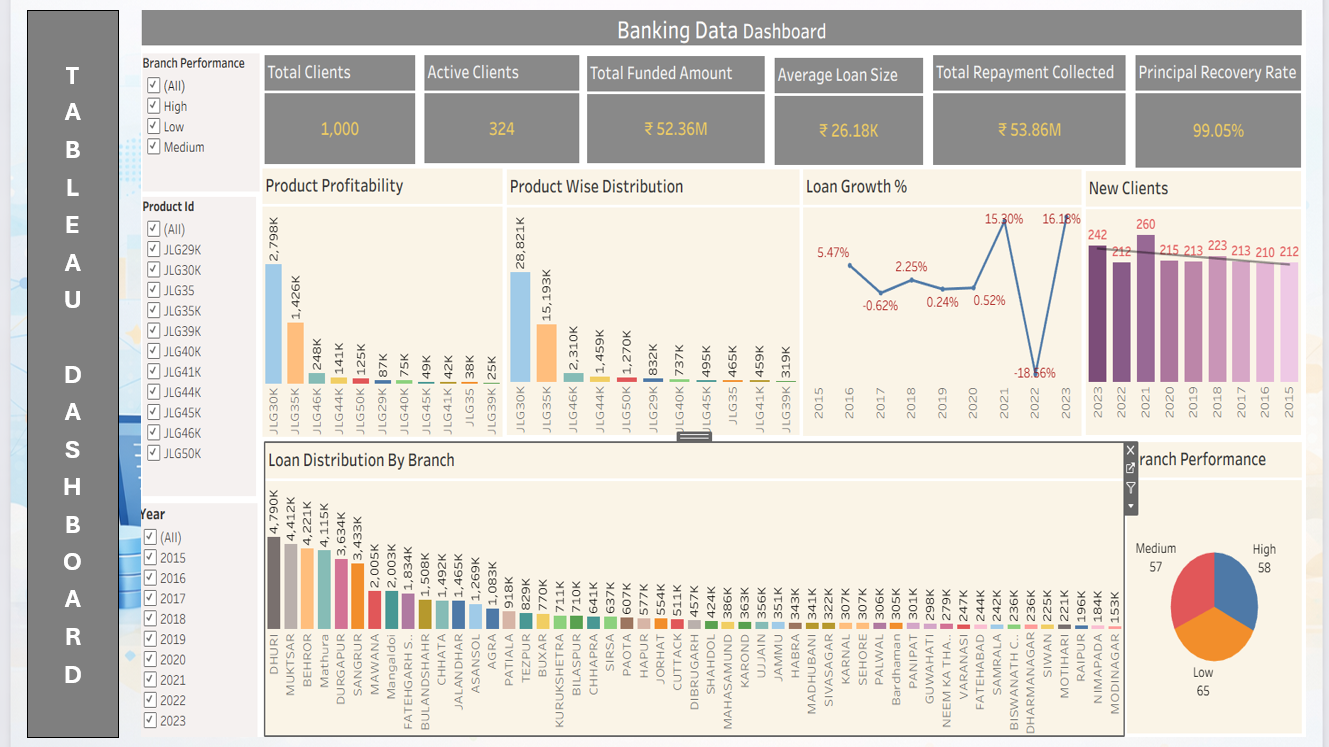

Layout of this report page (visuals, bound fields, positions):
{"tool":"tableau","page":{"name":"Banking Data Dashboard","canvas":[1000,1000],"units":"permille","ordinal":0},"visuals":[{"type":"title","box":[4.8,9.9,990.3,60.4]},{"type":"filter","title":"16.Branch performance","param":"[federated.10bfe800mgo1d818os03c090tx58].[none:Branch Performance Category:nk]","box":[7.9,72.8,99.6,183.7]},{"type":"worksheet","title":"1.Total clients","mark":"Automatic","box":[111.7,75.2,127.9,144.3]},{"type":"worksheet","title":"2.Active clients","mark":"Automatic","box":[247.4,75.2,131.6,143]},{"type":"worksheet","title":"9.Total repayments collected","mark":"Automatic","box":[679.5,75.2,163.6,145.5]},{"type":"worksheet","title":"10.Principal recovery rate","mark":"Automatic","box":[851.5,75.2,140.6,149.2]},{"type":"worksheet","title":"6.Total funded amount","mark":"Automatic","box":[385.6,76.5,150.9,141.8]},{"type":"worksheet","title":"7.Average loan size","mark":"Automatic","box":[545,78.9,126.1,141.8]},{"type":"worksheet","title":"18.Product profitability","mark":"Automatic","rows":["Total Rrec int"],"cols":["Product Id"],"box":[109.8,225.7,204,356.4]},{"type":"worksheet","title":"17.Product wise distribution","mark":"Automatic","rows":["Loan Amount"],"cols":["Product Id"],"box":[317.4,226.9,248.6,352.7]},{"type":"worksheet","title":"8.Loan growth","mark":"Automatic","cols":["Disbursement Date"],"box":[569.1,226.9,236.6,353.9]},{"type":"worksheet","title":"3.New clients","mark":"Bar","rows":["Calculation_0854889244217346"],"cols":["Calculation_0854889242804224"],"box":[809.3,229.3,182.9,350.2]},{"type":"filter","title":"18.Product profitability","param":"[federated.03c9pqk10go3sx1acoyfw1oe3xh6].[none:Product Id:nk]","box":[7.9,262.6,96.6,398.3]},{"type":"worksheet","title":"16.Branch performance","mark":"Pie","box":[844.3,588.2,148.5,387.2]},{"type":"worksheet","title":"15.Loan distribution by branch","mark":"Automatic","rows":["Loan Amount"],"cols":["Branch Name"],"box":[112.2,589.4,728.4,388.4]},{"type":"filter","title":"3.New clients","param":"[federated.0co8vzj13kro1s0zo18d51gb78zt].[yr:Disbursement Date:ok]","box":[4.8,669.5,100.8,320.6]}]}

Visuals, with their boxes on the dashboard's canvas, which has no fixed pixel size, in thousandths of its width and height (x1, y1, x2, y2). These are canvas units, not pixel positions in the 1329x747 screenshot, which may show the page scaled, cropped or inside an application window:
title: 5, 10, 995, 70
"16.Branch performance" filter: 8, 73, 108, 256
"1.Total clients" worksheet: 112, 75, 240, 220
"2.Active clients" worksheet: 247, 75, 379, 218
"9.Total repayments collected" worksheet: 680, 75, 843, 221
"10.Principal recovery rate" worksheet: 852, 75, 992, 224
"6.Total funded amount" worksheet: 386, 76, 536, 218
"7.Average loan size" worksheet: 545, 79, 671, 221
"18.Product profitability" worksheet: 110, 226, 314, 582
"17.Product wise distribution" worksheet: 317, 227, 566, 580
"8.Loan growth" worksheet: 569, 227, 806, 581
"3.New clients" worksheet (Bar marks): 809, 229, 992, 580
"18.Product profitability" filter: 8, 263, 104, 661
"16.Branch performance" worksheet (Pie marks): 844, 588, 993, 975
"15.Loan distribution by branch" worksheet: 112, 589, 841, 978
"3.New clients" filter: 5, 670, 106, 990
